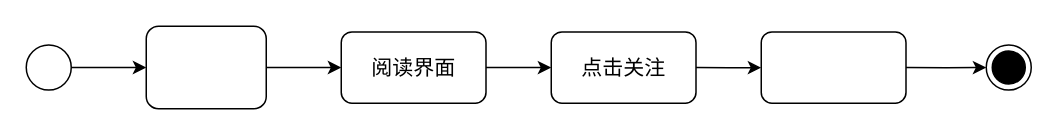
The diagram is 1058 pixels wide and 135 high, and some of its shapes have lost their labels. Here are the shapes that lost their labels. From the top down, the box of each, then its label:
(145, 25, 266, 109): 读者用户登录系统
(760, 30, 906, 103): 书籍移至书架
